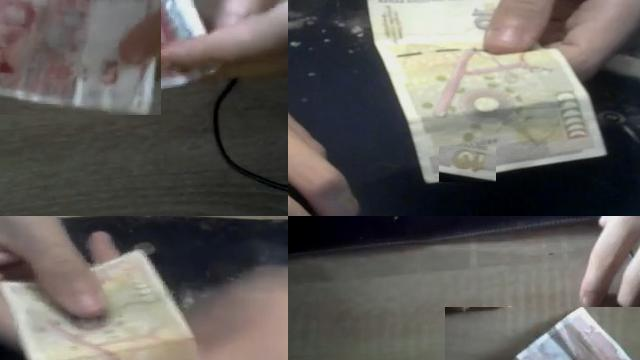10leva: (0, 216, 288, 360), (439, 147, 496, 182)
5leva: (0, 0, 161, 115)
